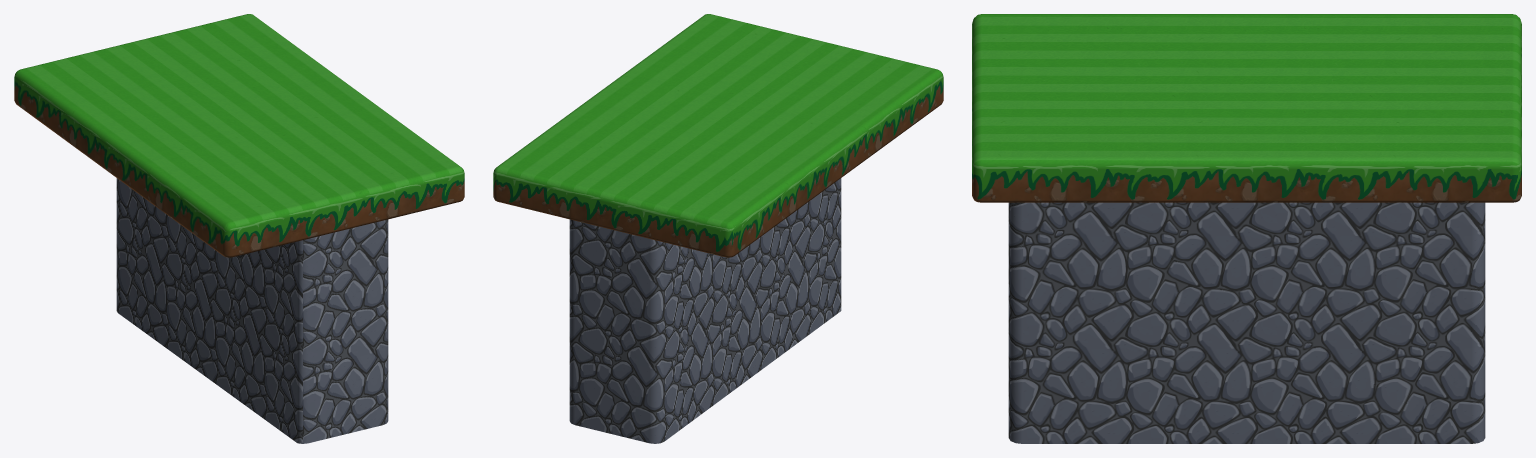
Rendered from Platform_1.fbx.
The picture shows the model from 3 angles, left to right: view 1: azimuth 30°, elevation 25°; view 2: azimuth 150°, elevation 25°; view 3: azimuth 270°, elevation 25°; orthographic projection. The views are drawn at different scales.
Parts seen in each view (by area): view 1: polySurface10; view 2: polySurface10; view 3: polySurface10.
Boxes of the visible parts, bbox=[...] form: polySurface10: bbox=[14, 14, 464, 443]; polySurface10: bbox=[493, 14, 943, 443]; polySurface10: bbox=[972, 14, 1521, 443].
Bounding box in the file's own units: 19.39 × 19.33 × 30.
Materials: 4 (4 with a texture image).
